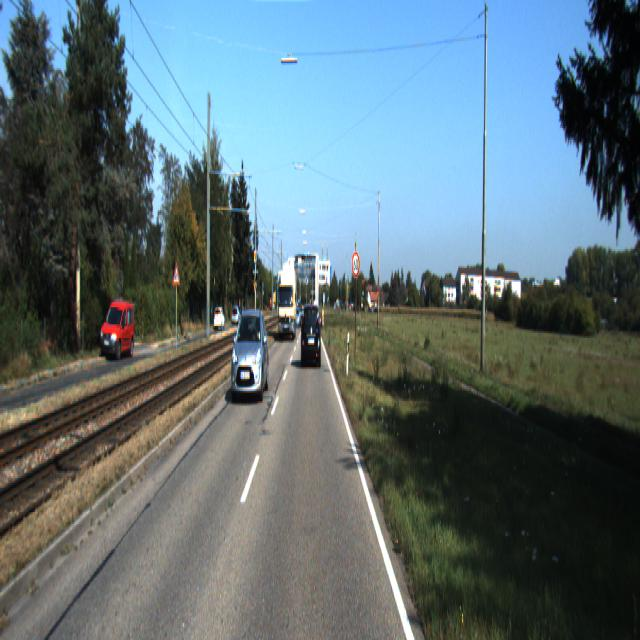Car: (232, 308, 270, 407), (100, 297, 136, 362), (278, 266, 298, 343), (302, 302, 322, 369)
